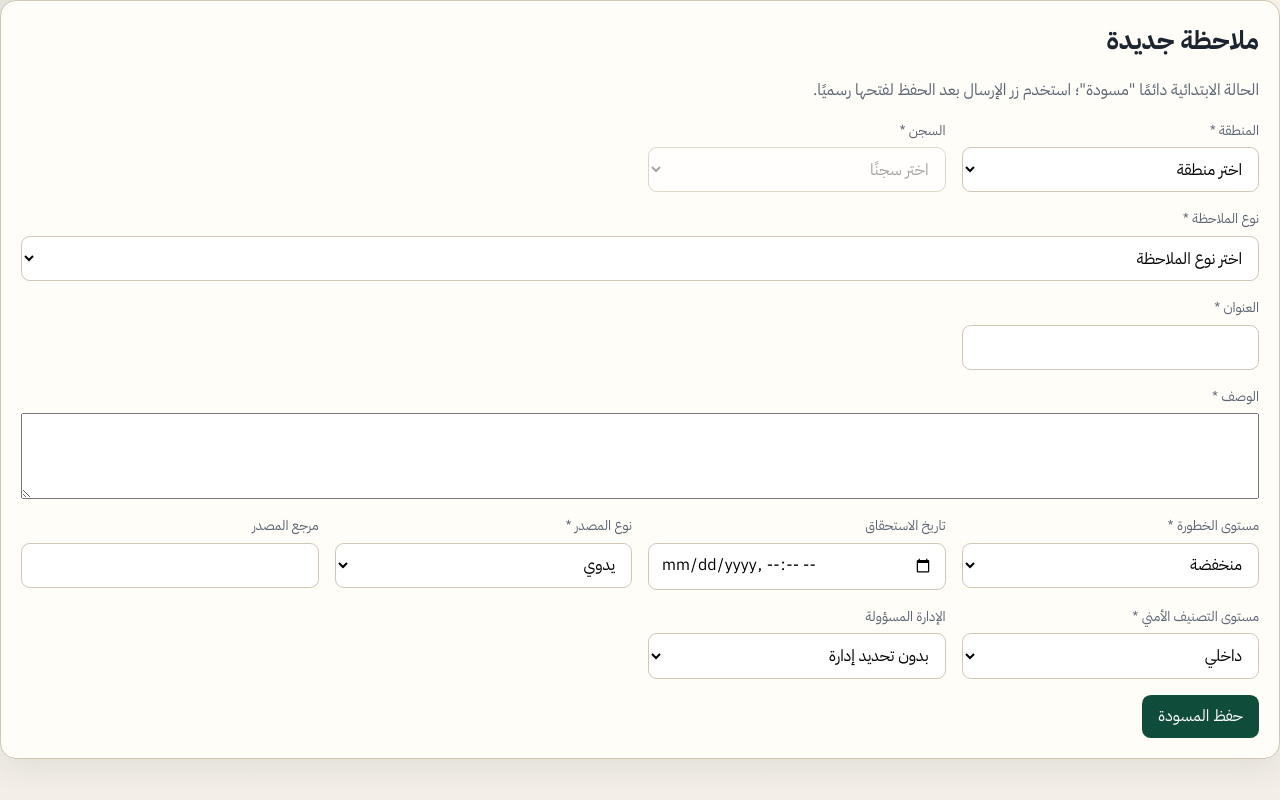
Scenario: NoteCreatePage › shows Arabic validation errors when required fields are missing
What coordinates should you click on to do the following:
click the button "حفظ المسودة"
I would click on:
 (1200, 716)
Its box is [1142, 695, 1259, 738].
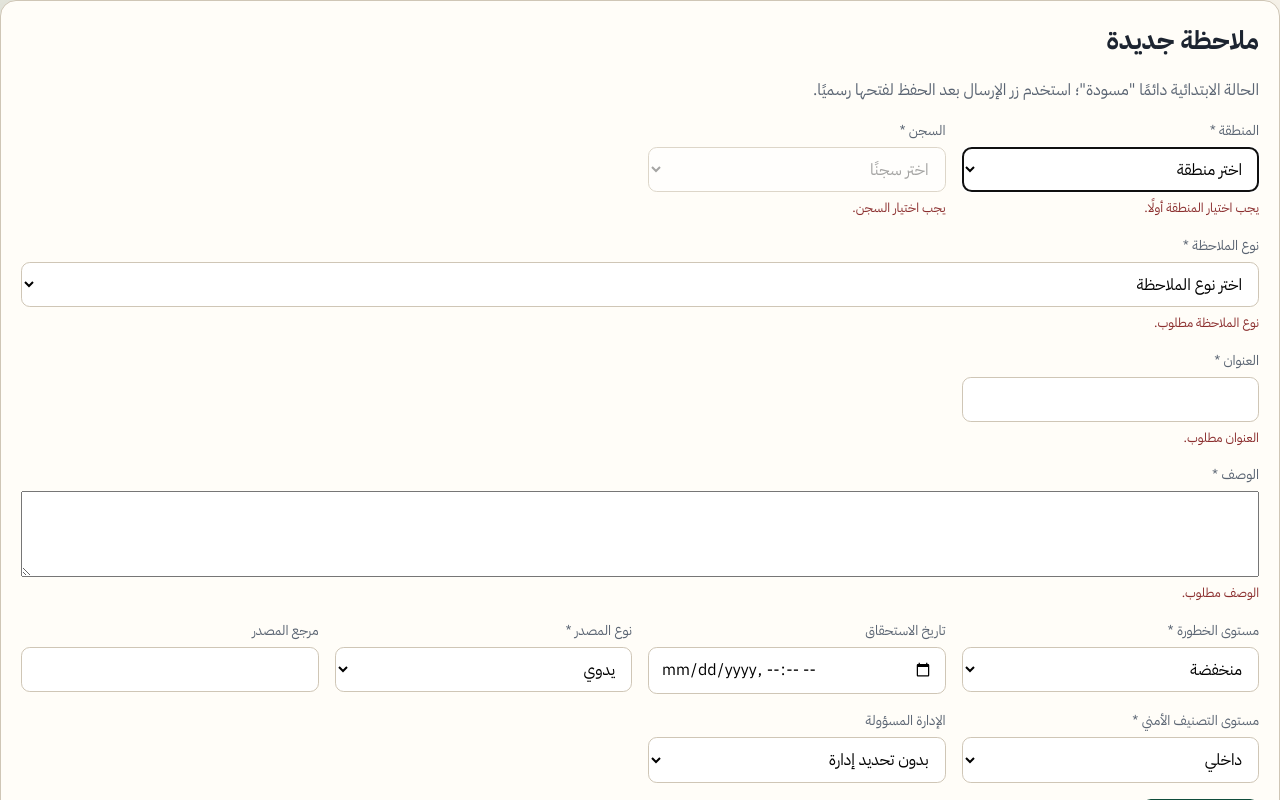
Now the text "العنوان مطلوب." is shown, box [1184, 428, 1259, 447]
Now the text "الوصف مطلوب." is shown, box [1182, 583, 1259, 602]
Now the text "يجب اختيار المنطقة أولًا." is shown, box [1144, 198, 1259, 217]
